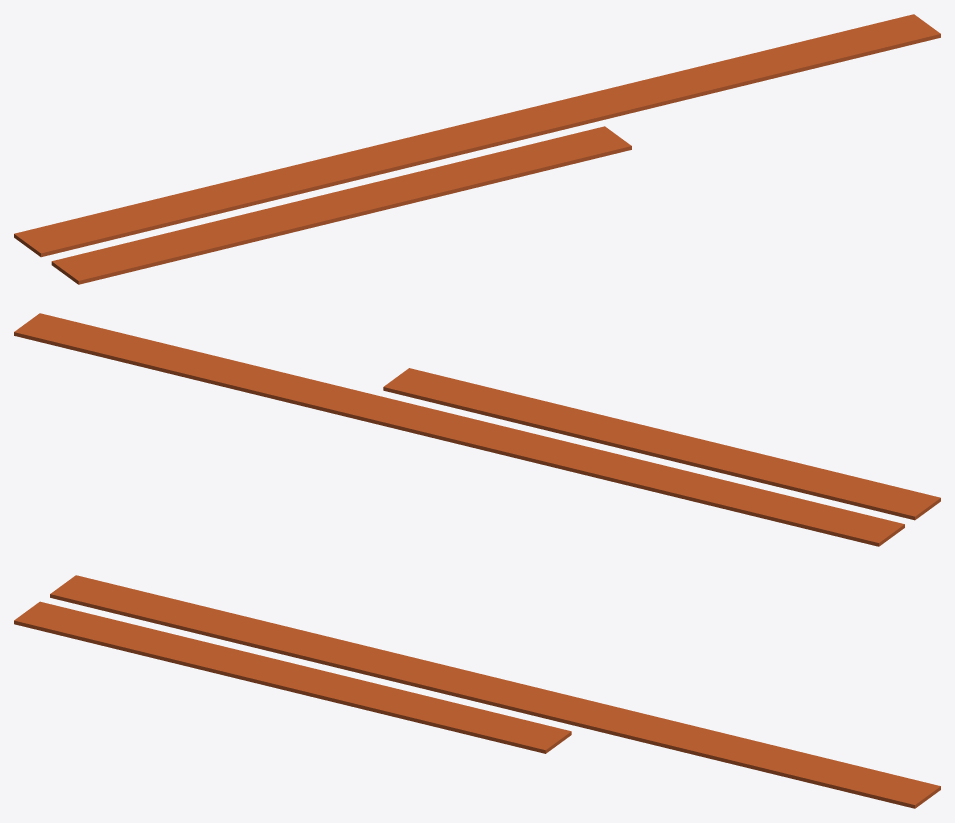
Rendered from ceiling-plank-253x20_itauba-oro_v0.1.dae.
3 renders of one model, top to bottom at view 1: azimuth 30°, elevation 25°; view 2: azimuth 150°, elevation 25°; view 3: azimuth 330°, elevation 25°, orthographic. The views are drawn at different scales.
Visible parts, largest first — view 1: IB-40519_ceiling-plank-253x20_itauba-oro_4880mm, IB-40502_ceiling-plank-253x20_itauba-oro_3000mm; view 2: IB-40519_ceiling-plank-253x20_itauba-oro_4880mm, IB-40502_ceiling-plank-253x20_itauba-oro_3000mm; view 3: IB-40519_ceiling-plank-253x20_itauba-oro_4880mm, IB-40502_ceiling-plank-253x20_itauba-oro_3000mm.
Part boxes in pixels (<box>): IB-40519_ceiling-plank-253x20_itauba-oro_4880mm: <box>14,14,940,257</box>; IB-40502_ceiling-plank-253x20_itauba-oro_3000mm: <box>51,126,631,284</box>; IB-40519_ceiling-plank-253x20_itauba-oro_4880mm: <box>14,313,904,546</box>; IB-40502_ceiling-plank-253x20_itauba-oro_3000mm: <box>383,368,940,520</box>; IB-40519_ceiling-plank-253x20_itauba-oro_4880mm: <box>50,575,940,808</box>; IB-40502_ceiling-plank-253x20_itauba-oro_3000mm: <box>14,601,571,753</box>.
Size of the model in its own units: 4880 by 606 by 20.
